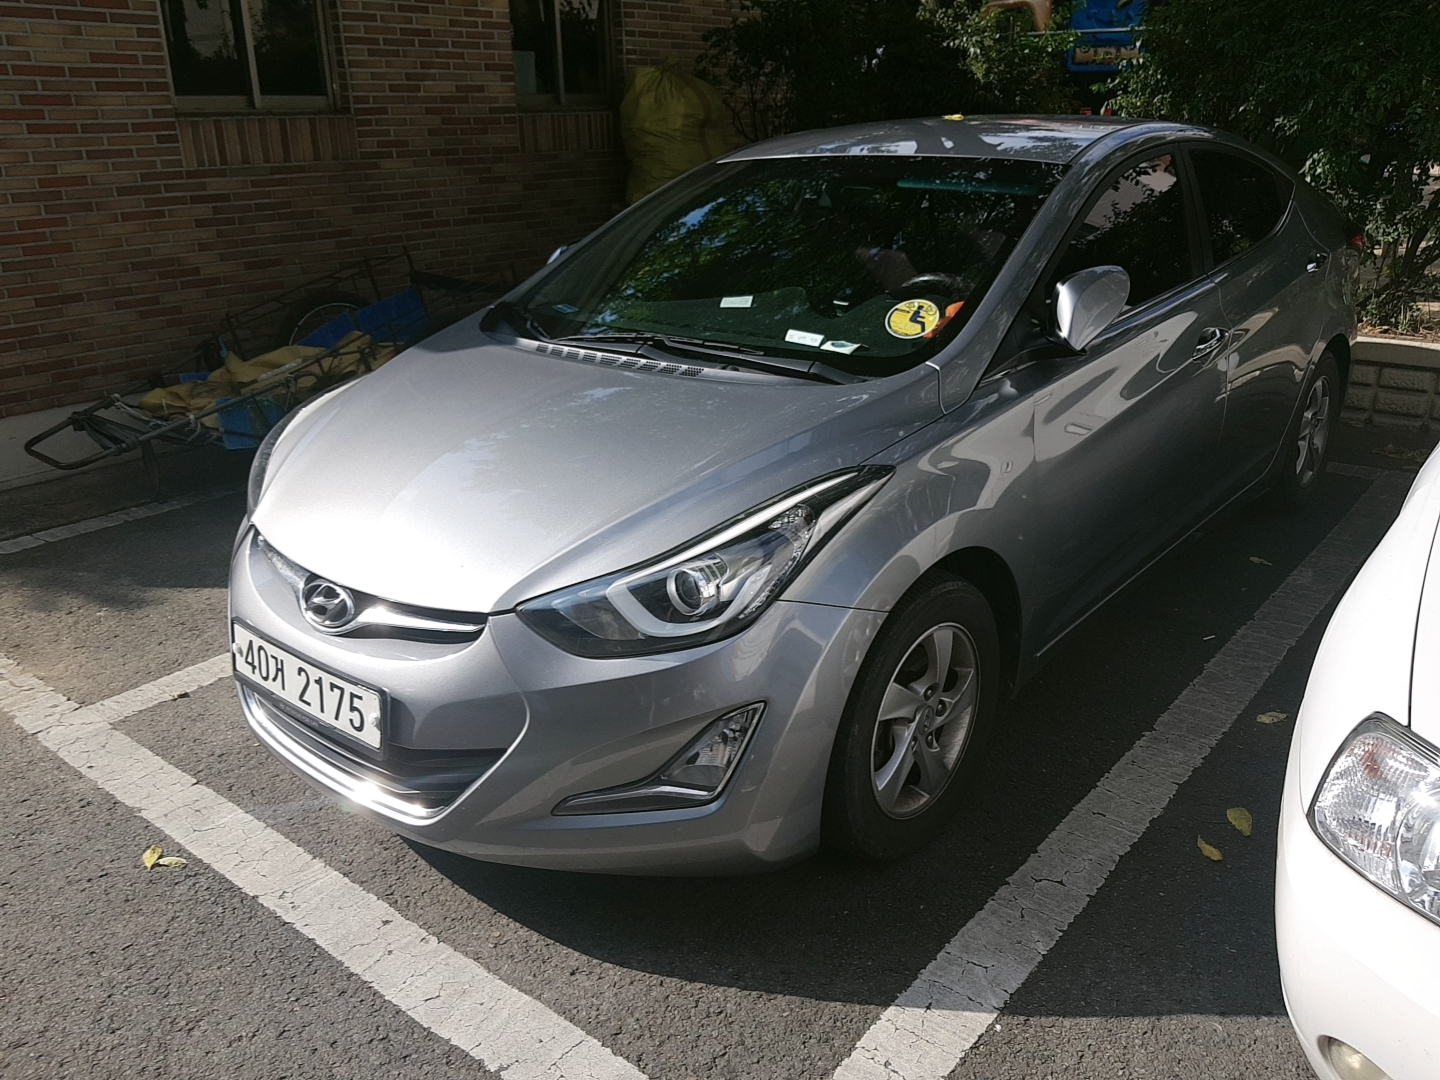disabled_parking: (881, 292, 943, 339)
